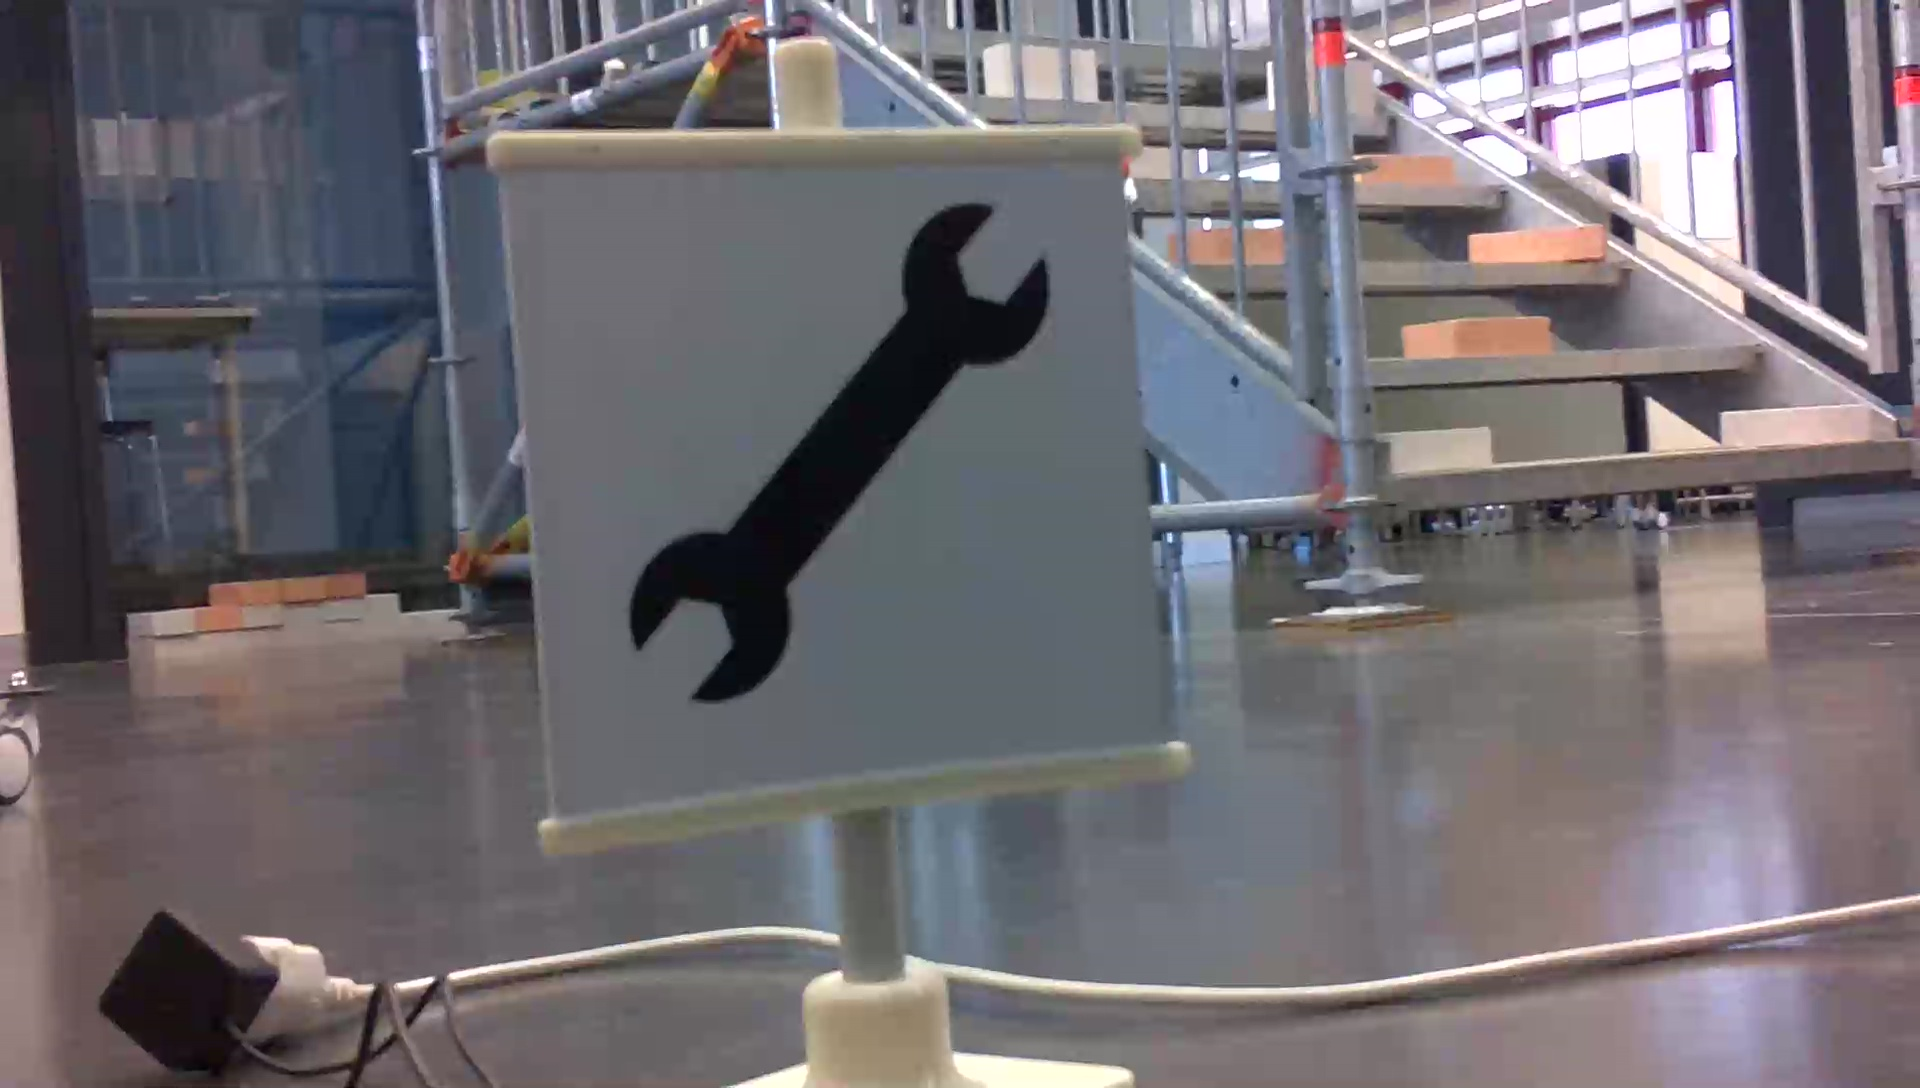brick: (1400, 317, 1548, 353), (1722, 408, 1869, 444), (1468, 226, 1605, 260), (1389, 426, 1487, 468), (1357, 150, 1455, 185), (1342, 61, 1375, 111)
edge: (1393, 440, 1913, 505), (1365, 343, 1764, 385), (1354, 255, 1633, 285)
wrench: (615, 195, 1064, 713)
